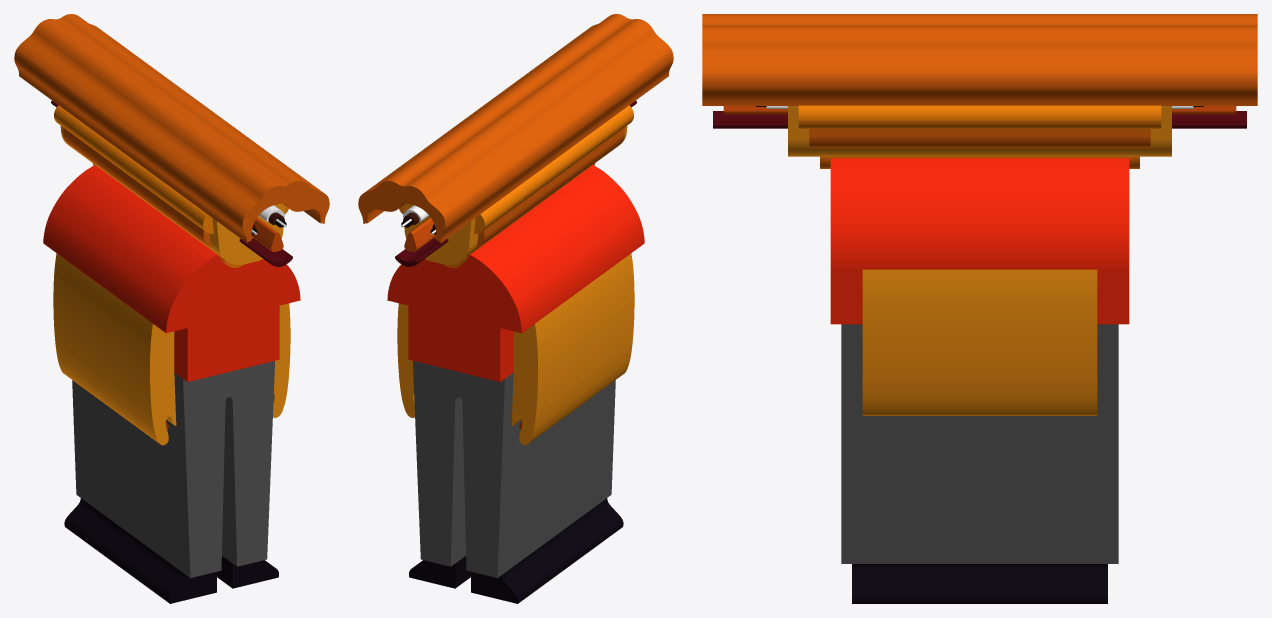
The picture shows the model from 3 angles, left to right: view 1: azimuth 30°, elevation 25°; view 2: azimuth 150°, elevation 25°; view 3: azimuth 270°, elevation 25°; orthographic projection. The views are drawn at different scales.
Visible parts, largest first — view 1: U+1F9CD_layer03_obj00, U+1F9CD_layer16_obj00, U+1F9CD_layer04_obj00, U+1F9CD_layer01_obj00, U+1F9CD_layer02_obj00, U+1F9CD_layer07_obj00, U+1F9CD_layer06_obj00, U+1F9CD_layer08_obj00, U+1F9CD_layer15_obj00, U+1F9CD_layer14_obj00; view 2: U+1F9CD_layer03_obj00, U+1F9CD_layer16_obj00, U+1F9CD_layer04_obj00, U+1F9CD_layer01_obj00, U+1F9CD_layer02_obj00, U+1F9CD_layer07_obj00, U+1F9CD_layer06_obj00, U+1F9CD_layer08_obj00, U+1F9CD_layer15_obj00, U+1F9CD_layer14_obj00; view 3: U+1F9CD_layer16_obj00, U+1F9CD_layer03_obj00, U+1F9CD_layer04_obj00, U+1F9CD_layer01_obj00, U+1F9CD_layer02_obj00, U+1F9CD_layer07_obj00, U+1F9CD_layer06_obj00, U+1F9CD_layer08_obj00, U+1F9CD_layer15_obj00, U+1F9CD_layer05_obj00, U+1F9CD_layer14_obj00.
Boxes of the visible parts, left/top/right/bottom form: U+1F9CD_layer03_obj00: left=72, top=361, right=274, bottom=577; U+1F9CD_layer16_obj00: left=14, top=14, right=329, bottom=242; U+1F9CD_layer04_obj00: left=43, top=165, right=300, bottom=381; U+1F9CD_layer01_obj00: left=53, top=253, right=290, bottom=445; U+1F9CD_layer02_obj00: left=64, top=498, right=278, bottom=603; U+1F9CD_layer07_obj00: left=54, top=105, right=288, bottom=233; U+1F9CD_layer06_obj00: left=63, top=127, right=211, bottom=247; U+1F9CD_layer08_obj00: left=60, top=126, right=284, bottom=264; U+1F9CD_layer15_obj00: left=51, top=100, right=292, bottom=266; U+1F9CD_layer14_obj00: left=251, top=217, right=283, bottom=251; U+1F9CD_layer03_obj00: left=413, top=361, right=615, bottom=577; U+1F9CD_layer16_obj00: left=358, top=14, right=673, bottom=242; U+1F9CD_layer04_obj00: left=387, top=165, right=644, bottom=381; U+1F9CD_layer01_obj00: left=397, top=253, right=634, bottom=445; U+1F9CD_layer02_obj00: left=409, top=498, right=623, bottom=603; U+1F9CD_layer07_obj00: left=399, top=105, right=633, bottom=233; U+1F9CD_layer06_obj00: left=476, top=127, right=624, bottom=247; U+1F9CD_layer08_obj00: left=403, top=126, right=627, bottom=264; U+1F9CD_layer15_obj00: left=395, top=100, right=636, bottom=266; U+1F9CD_layer14_obj00: left=404, top=217, right=436, bottom=251; U+1F9CD_layer16_obj00: left=702, top=14, right=1257, bottom=105; U+1F9CD_layer03_obj00: left=841, top=324, right=1118, bottom=563; U+1F9CD_layer04_obj00: left=830, top=158, right=1129, bottom=324; U+1F9CD_layer01_obj00: left=862, top=269, right=1097, bottom=415; U+1F9CD_layer02_obj00: left=852, top=564, right=1107, bottom=603; U+1F9CD_layer07_obj00: left=798, top=105, right=1161, bottom=128; U+1F9CD_layer06_obj00: left=809, top=129, right=1150, bottom=148; U+1F9CD_layer08_obj00: left=788, top=106, right=1171, bottom=156; U+1F9CD_layer15_obj00: left=713, top=111, right=1246, bottom=128; U+1F9CD_layer05_obj00: left=820, top=156, right=1139, bottom=168; U+1F9CD_layer14_obj00: left=723, top=106, right=1236, bottom=114.
Bounding box in the file's own units: 0.1851 × 0.5683 × 0.52.
